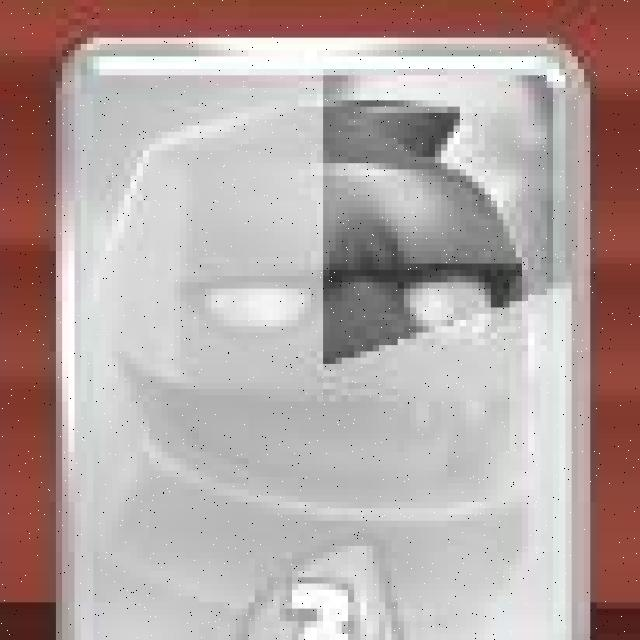Elixir_Golem: (51, 36, 591, 640)
